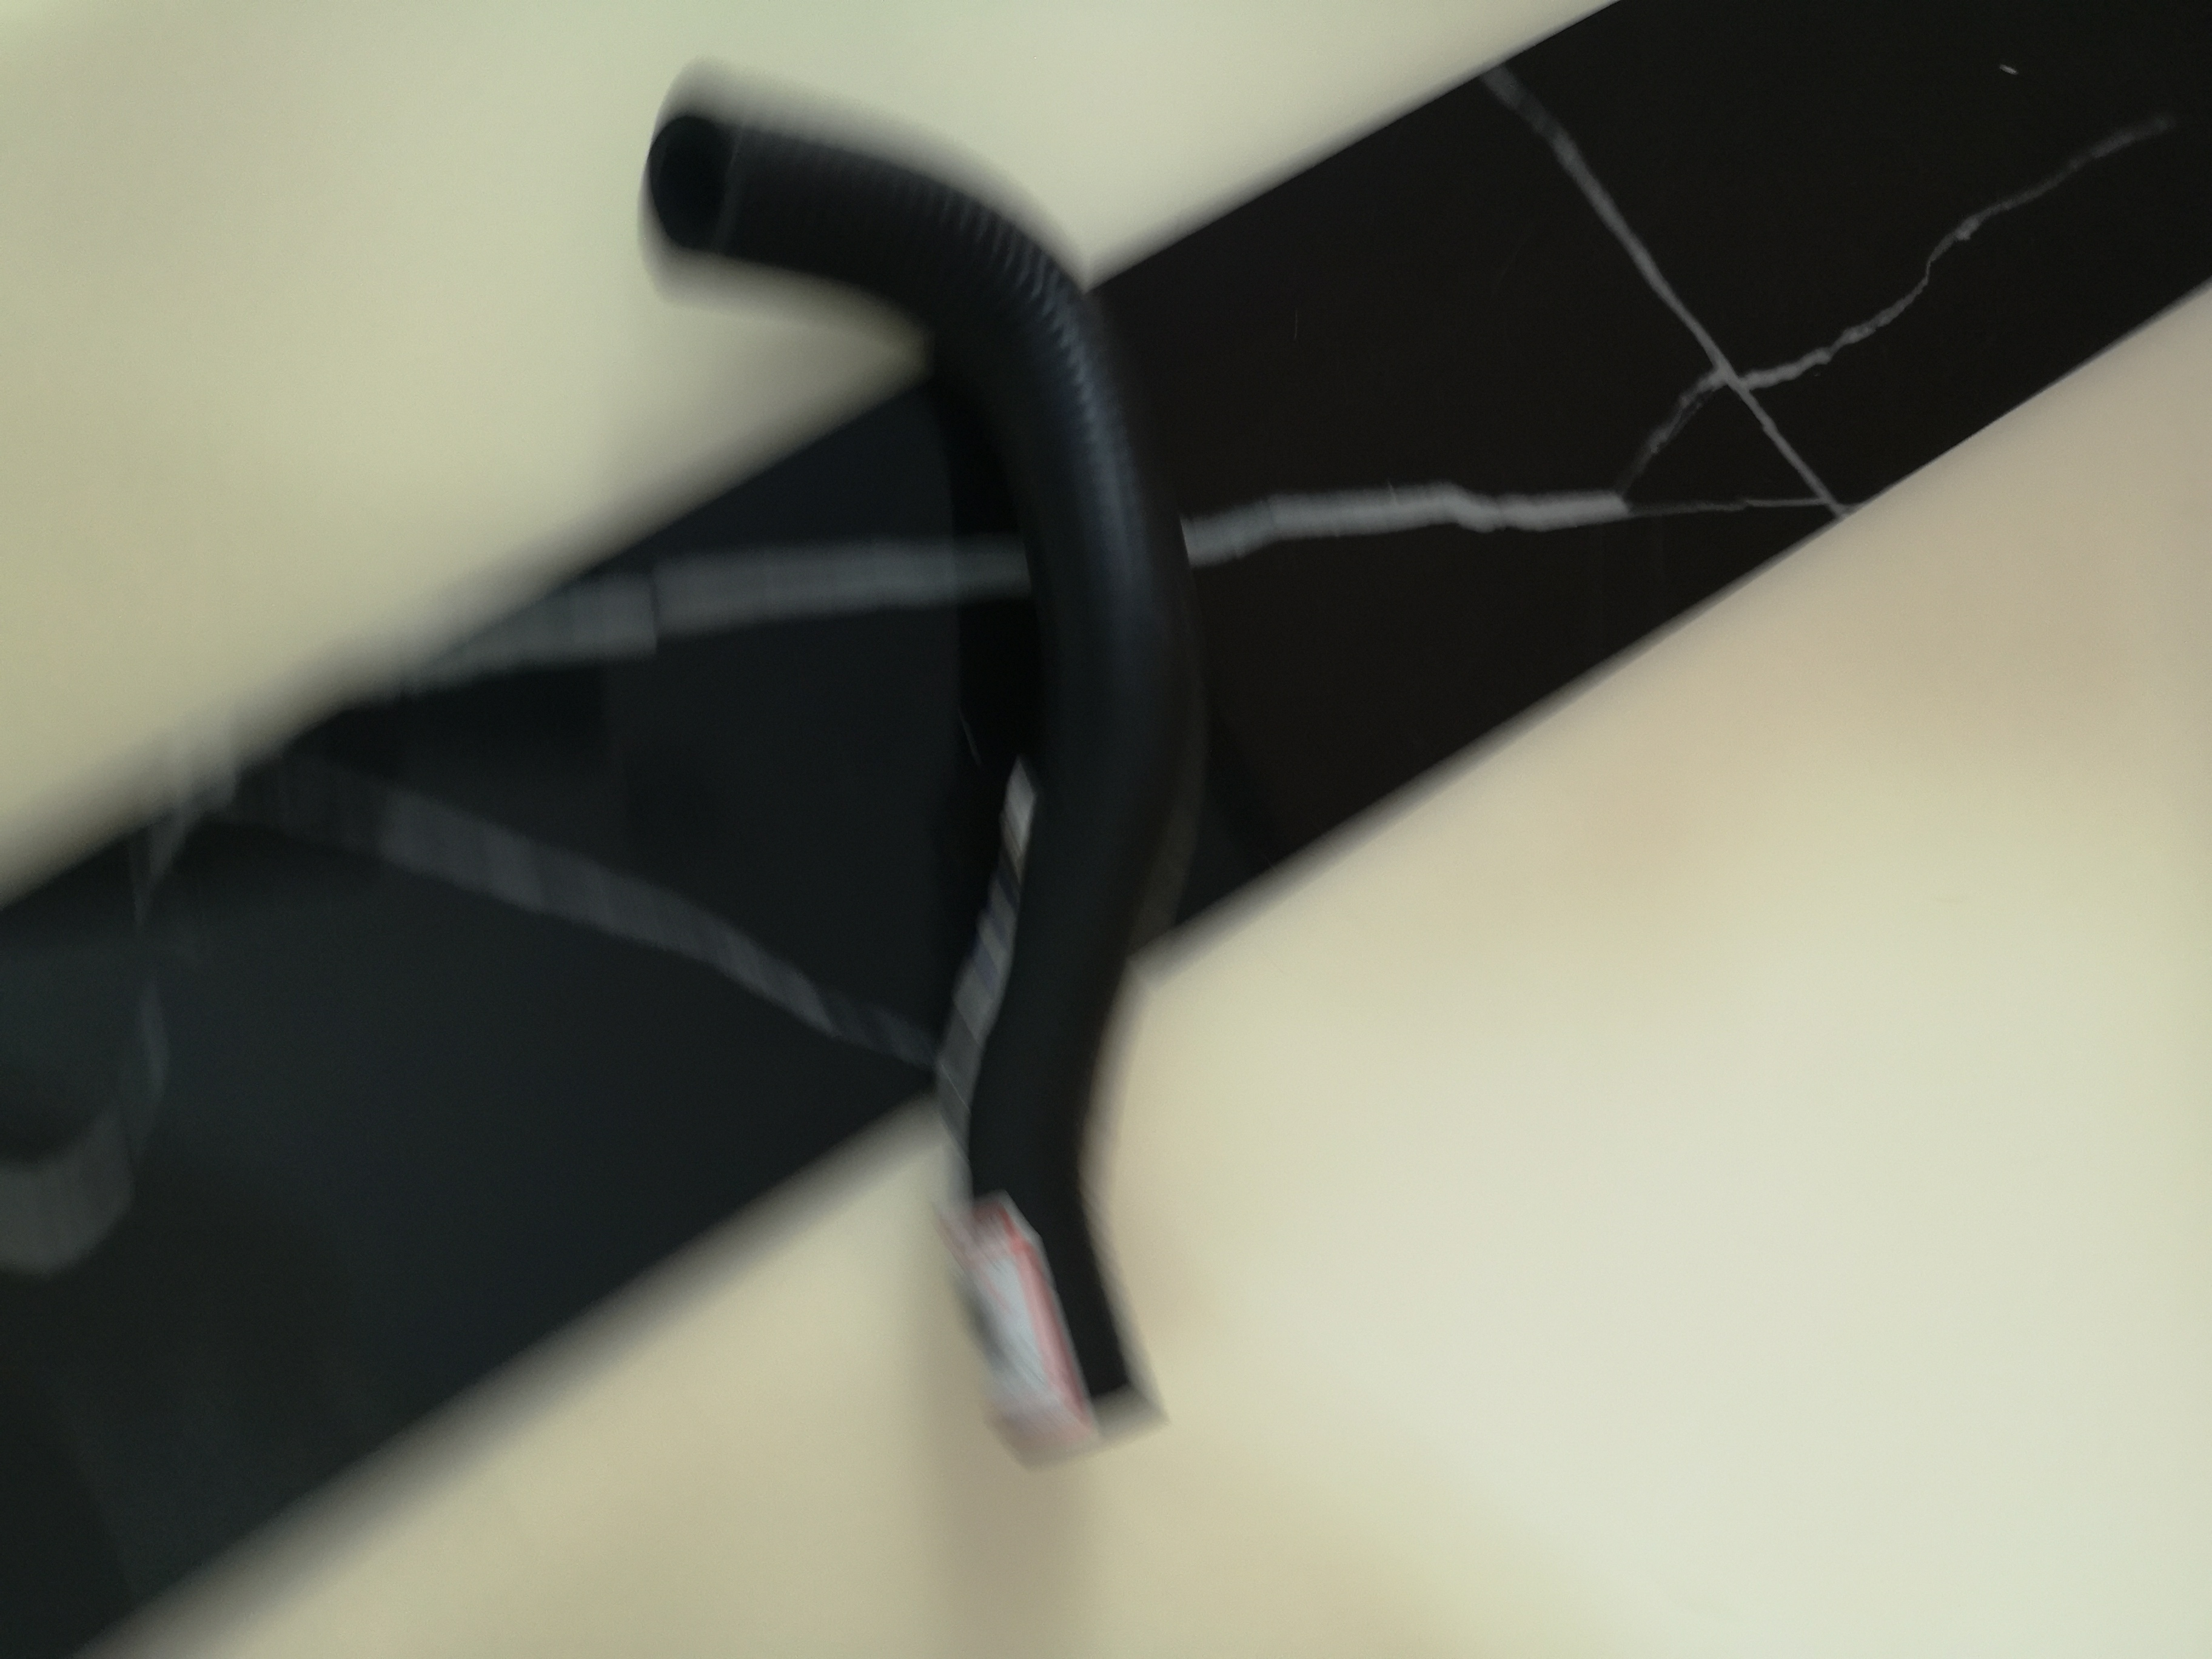ท่อยางน้ำมันเลี้ยงเทอร์โบ: (585, 73, 1317, 1486)
